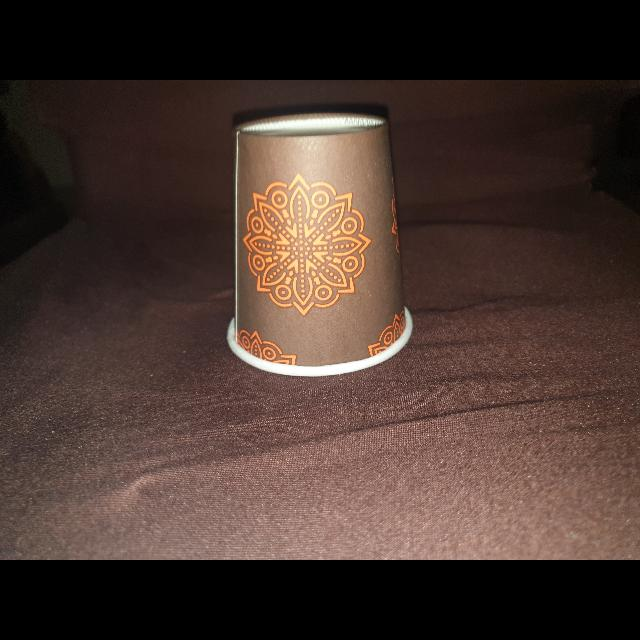trash: (210, 111, 420, 379)
